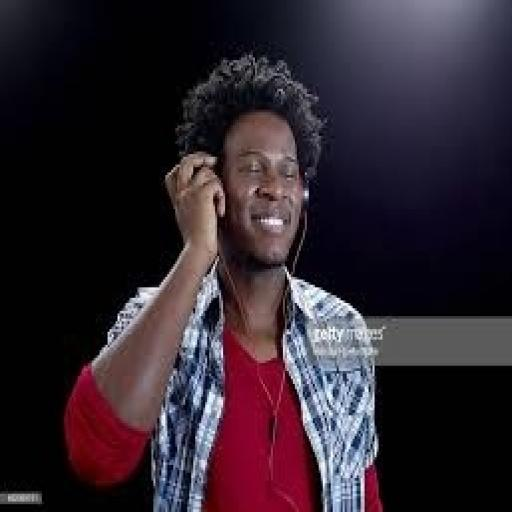listening_to_music: (60, 50, 392, 510)
